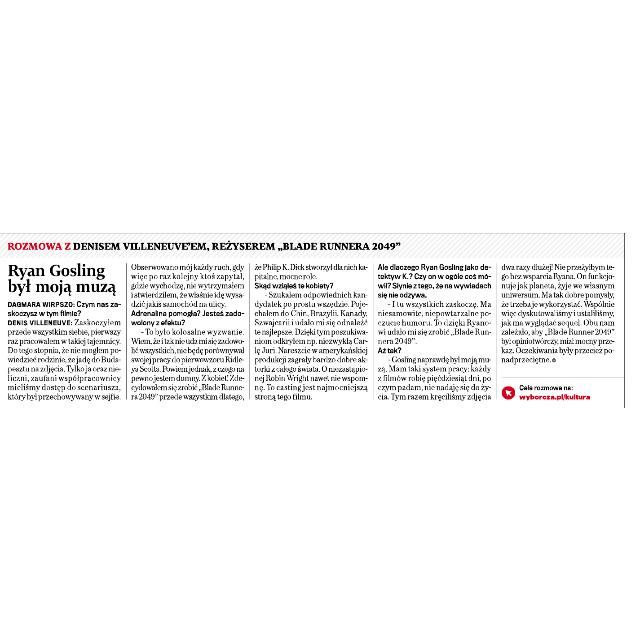body: (252, 262, 370, 402), (375, 262, 493, 402), (130, 260, 246, 402), (5, 296, 125, 404), (498, 260, 618, 364)
lead: (7, 260, 121, 294)
title: (5, 236, 405, 254)
